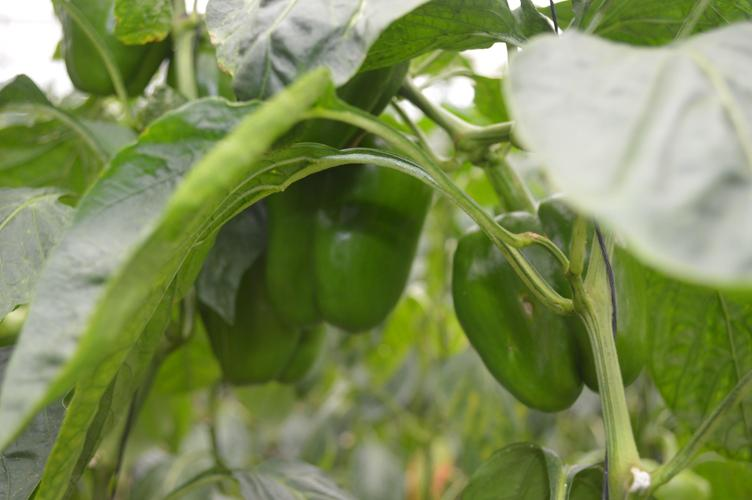BellPepper: (450, 201, 644, 410), (264, 160, 432, 326), (208, 265, 316, 378), (62, 6, 170, 107)
